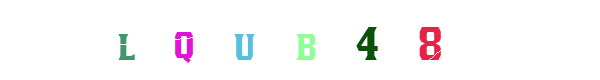4: (328, 0, 408, 80)
8: (390, 0, 470, 80)
B: (259, 0, 339, 80)
L: (127, 0, 207, 80)
Q: (145, 0, 225, 80)
U: (232, 0, 312, 80)
